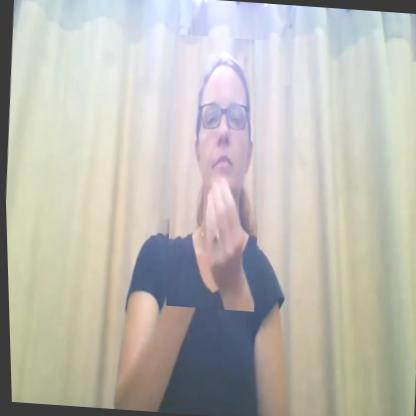Food: (158, 35, 272, 312)
